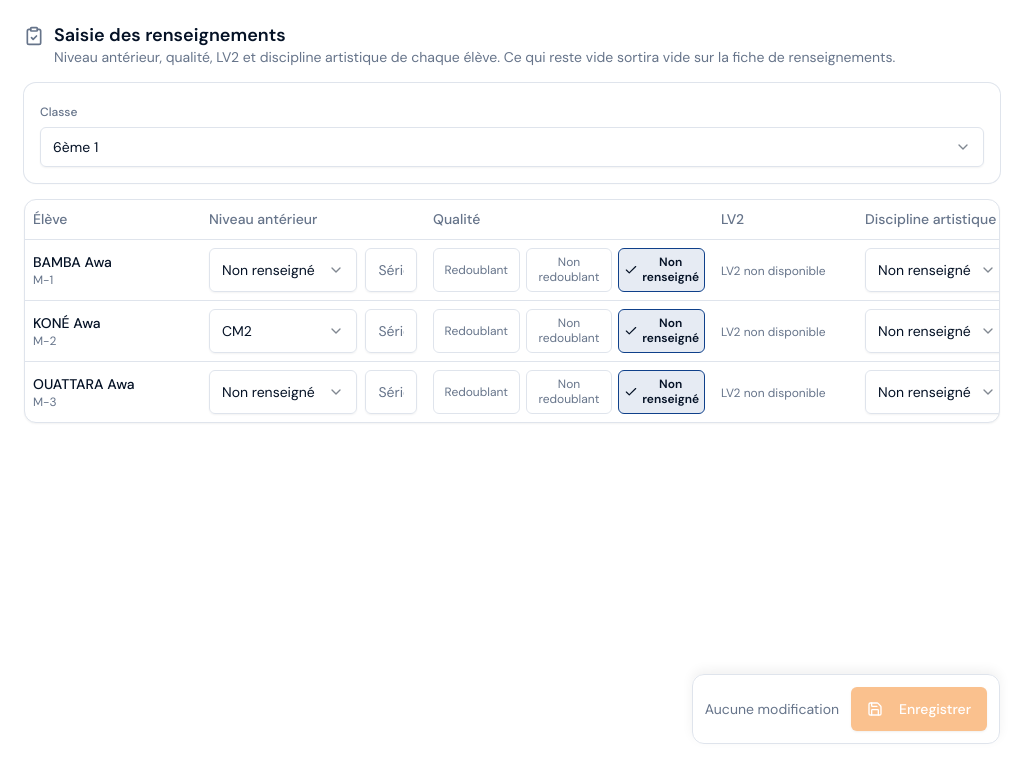
Test: la saisie des renseignements par classe › n'envoie rien pour une ligne remise à sa valeur d'origine
Step 1. Click the button "Non redoublant" in the row of "BAMBA Awa" → coordinates (569, 270), box [526,248,612,292]
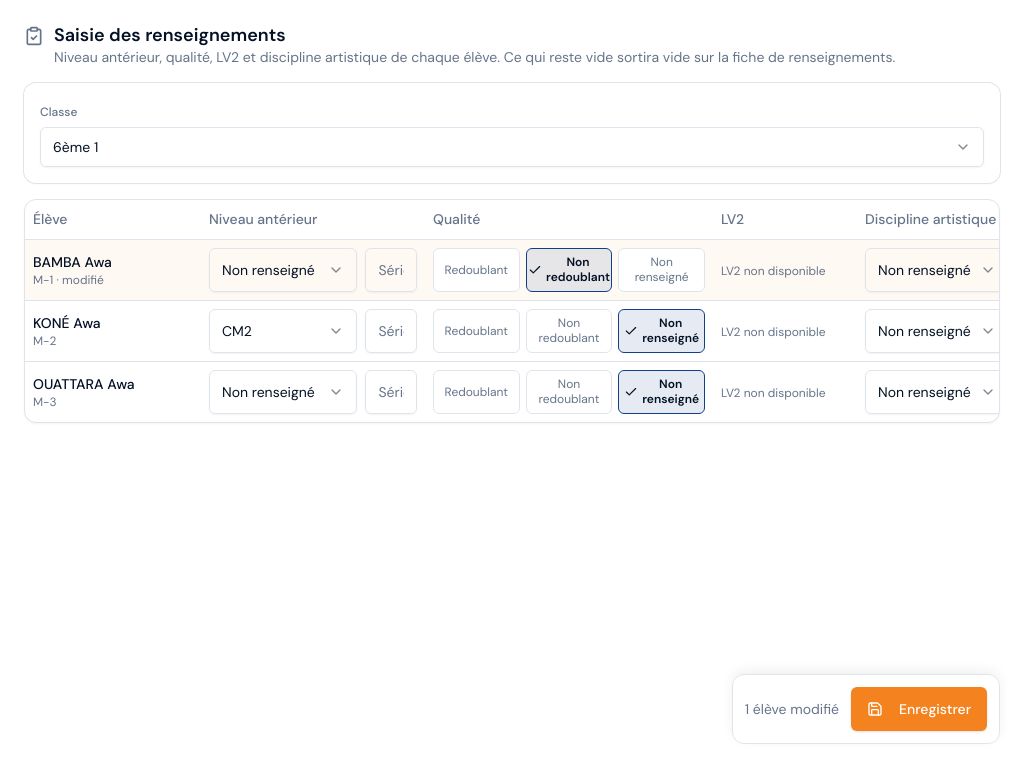
Step 2. Click the button "Non renseigné" in the row of "BAMBA Awa" → coordinates (662, 270), box [618,248,705,292]
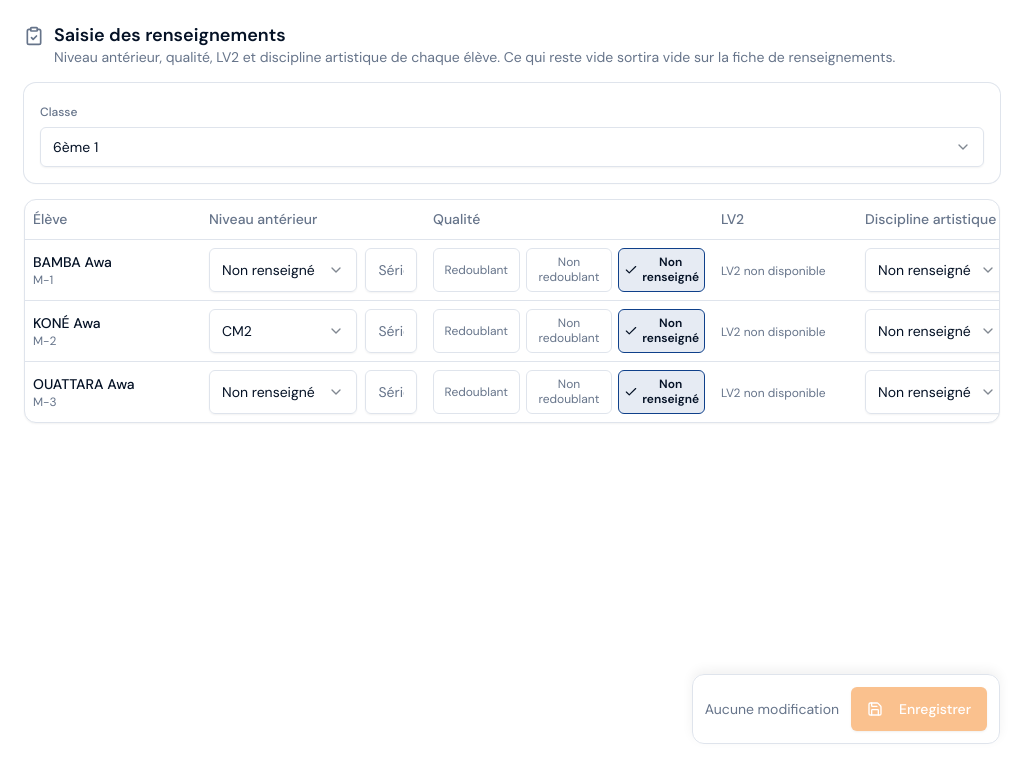
expect the text "Aucune modification" is shown: met, box [705,699,839,719]
expect the button "Enregistrer" is disabled: met, box [851,687,987,731]
